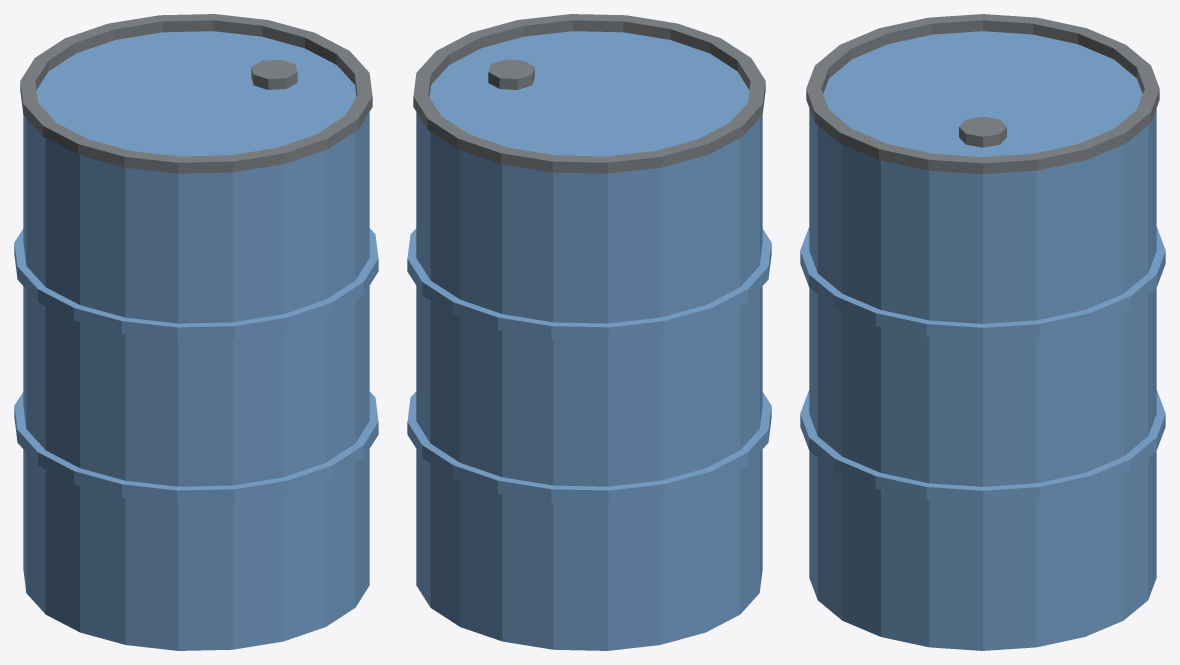
File: drum_b.glb
The picture shows the model from 3 angles, left to right: view 1: azimuth 30°, elevation 25°; view 2: azimuth 150°, elevation 25°; view 3: azimuth 270°, elevation 25°; orthographic projection.
Parts seen in each view (by area): view 1: drum_b_paint_b, drum_b_steel_d; view 2: drum_b_paint_b, drum_b_steel_d; view 3: drum_b_paint_b, drum_b_steel_d.
Part boxes in pixels (<box>): drum_b_paint_b: <box>14,31,378,650</box>; drum_b_steel_d: <box>20,14,372,173</box>; drum_b_paint_b: <box>407,31,771,650</box>; drum_b_steel_d: <box>413,14,765,173</box>; drum_b_paint_b: <box>800,31,1165,650</box>; drum_b_steel_d: <box>806,14,1159,174</box>.
Size of the model in its own units: 0.61 by 0.9 by 0.61.
